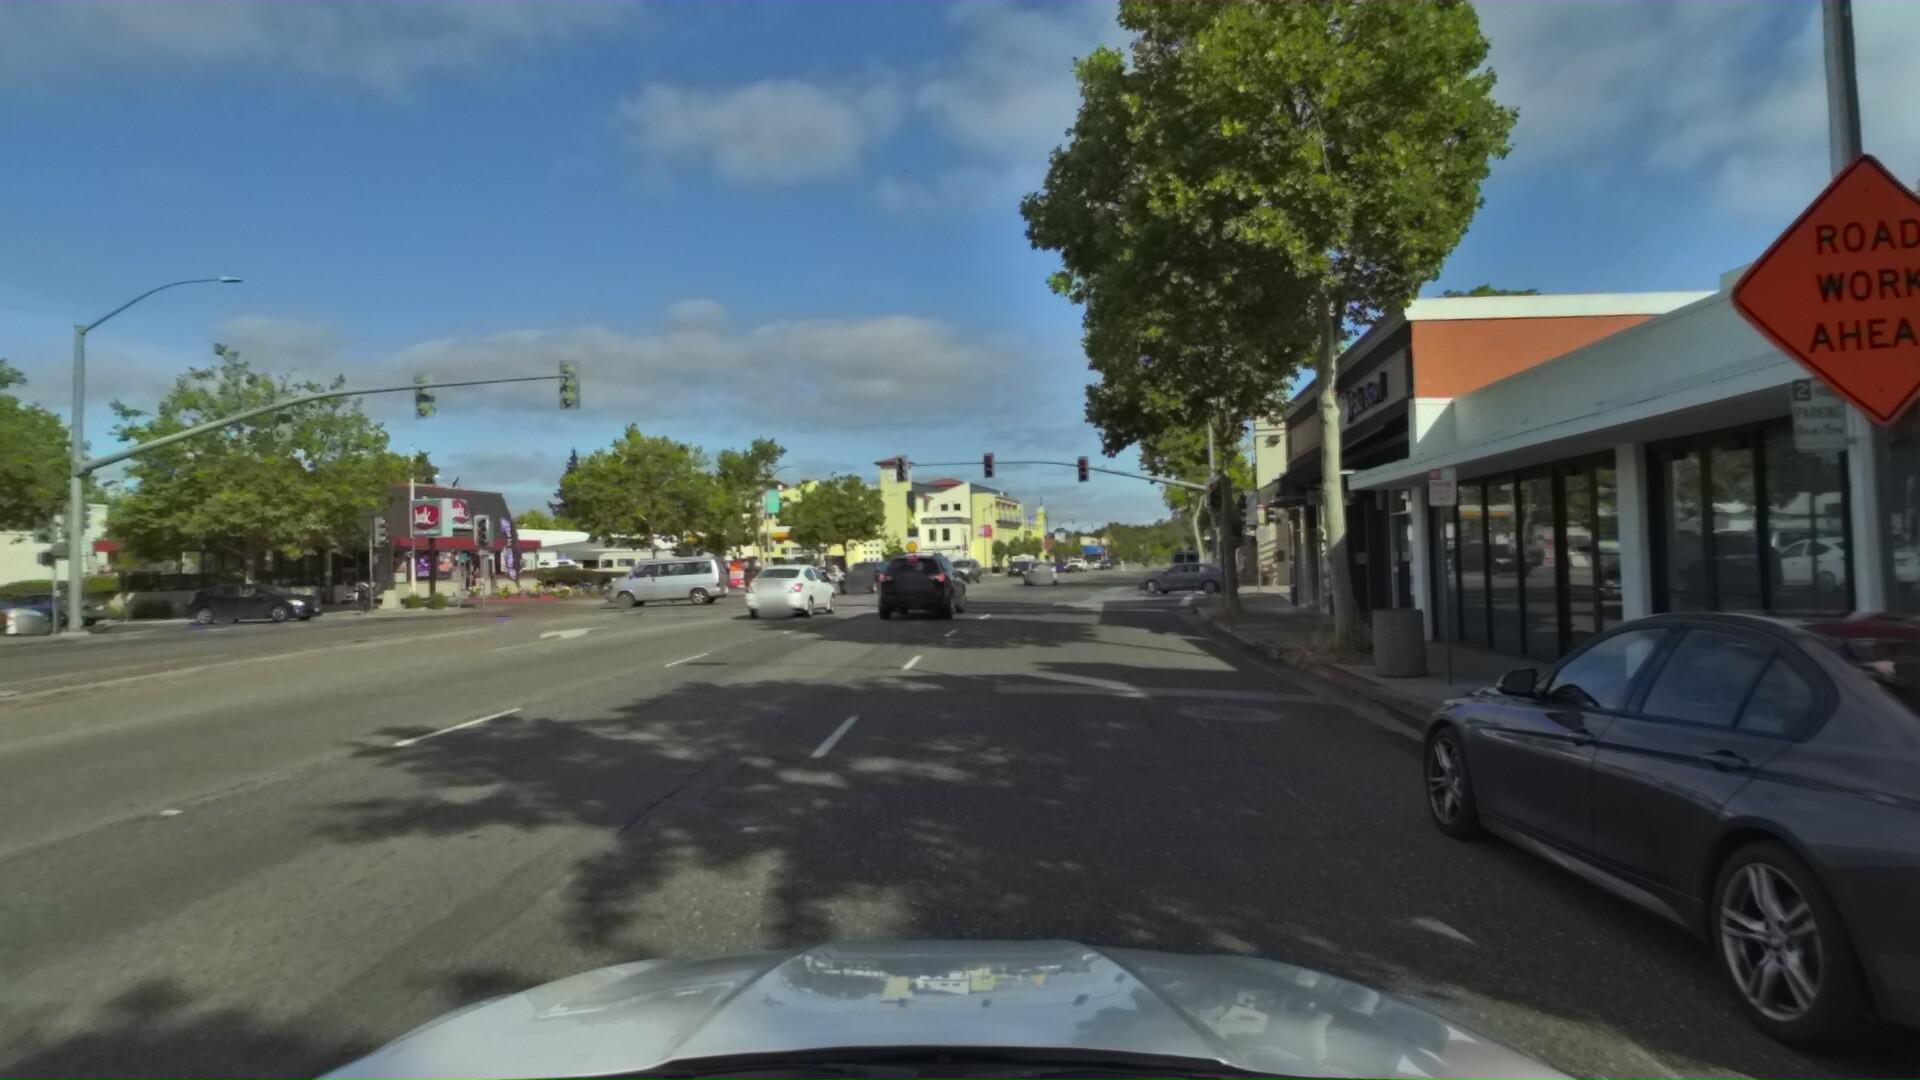car: (1407, 563, 1920, 1080), (866, 555, 971, 628), (174, 583, 327, 630), (589, 558, 720, 611), (732, 563, 833, 625), (0, 585, 102, 636), (1125, 560, 1242, 597), (0, 593, 57, 647), (825, 556, 895, 597), (1164, 545, 1211, 585), (1018, 559, 1058, 588), (944, 555, 981, 585), (529, 556, 578, 579)
